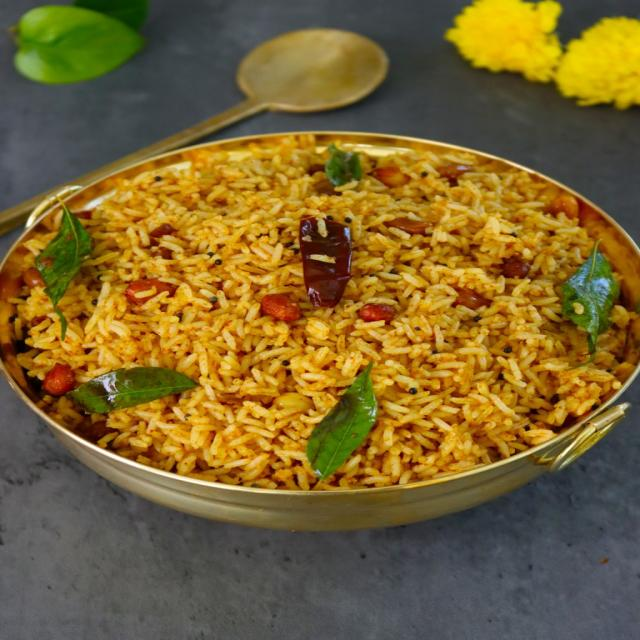puliyogare: (0, 119, 640, 522)
